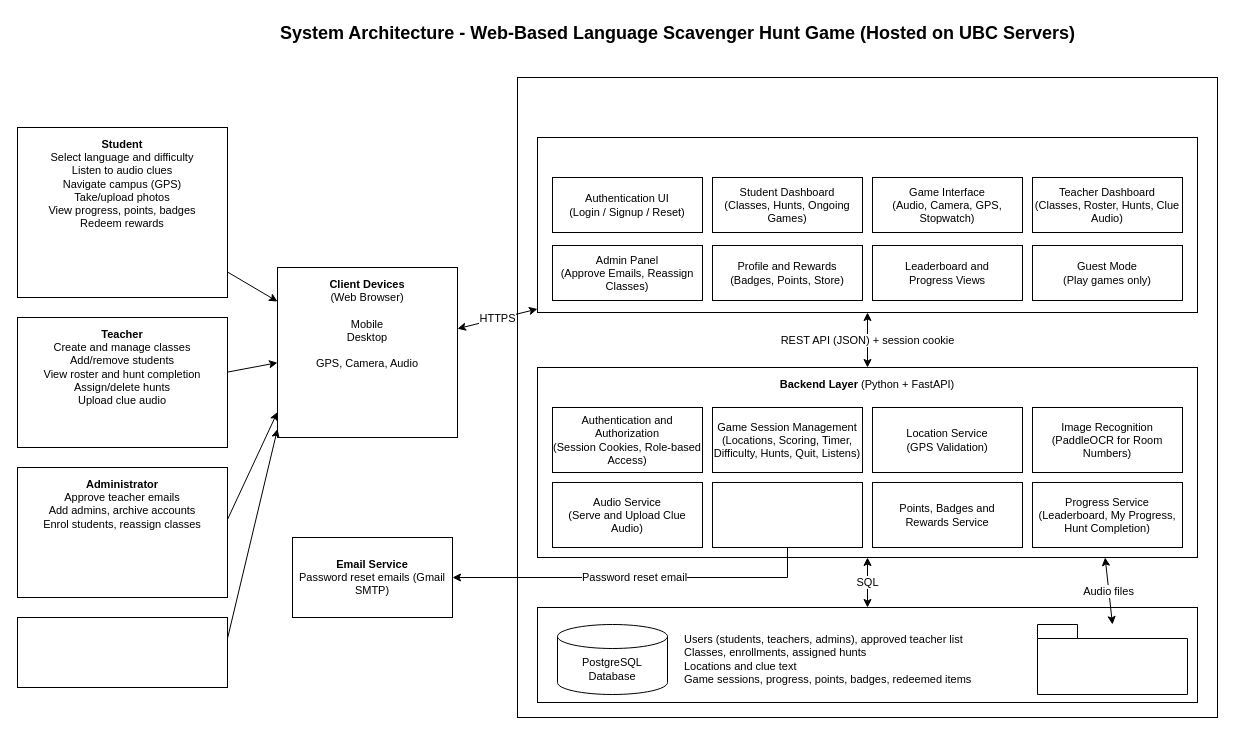
The diagram is 1235 pixels wide and 735 high, and some of its shapes have lost their labels. Each missing label, with the box of its shape:
Clue Audio Files (folder / Docker volume): (1036, 624, 1188, 694)
Data Layer: (536, 606, 1198, 702)
Frontend Layer (React + TypeScript): (536, 136, 1198, 312)
Guest Play games without an account No classes; points not saved: (16, 616, 228, 688)
Server Environment (Docker): (516, 76, 1218, 718)
Teacher and Admin Management (Classes, Users, Approved List): (712, 482, 862, 548)
